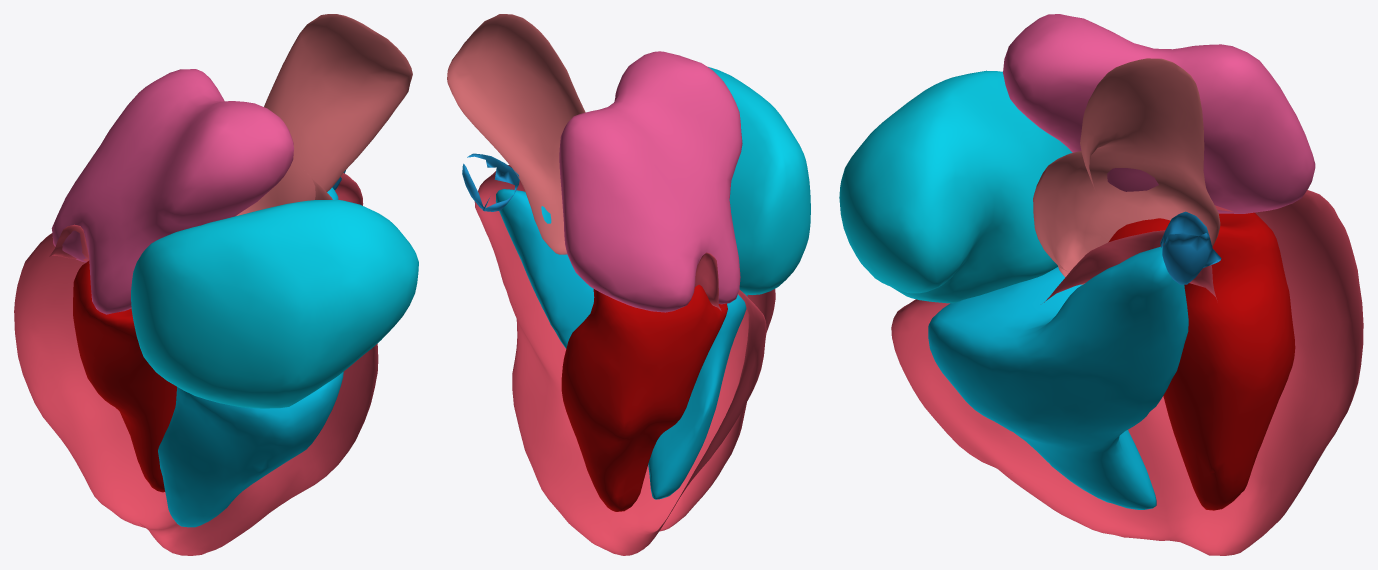
File: frame_8.glb
3 renders of one model, left to right at view 1: azimuth 30°, elevation 25°; view 2: azimuth 150°, elevation 25°; view 3: azimuth 270°, elevation 25°, orthographic. The views are drawn at different scales.
Visible parts, largest first — view 1: Renderer Node; view 2: Renderer Node; view 3: Renderer Node.
Boxes of the visible parts, x1,y1,x2,y2 form: Renderer Node: [14, 14, 418, 555]; Renderer Node: [447, 14, 810, 555]; Renderer Node: [839, 14, 1363, 555].
Size of the model in its own units: 111 by 154 by 126.
